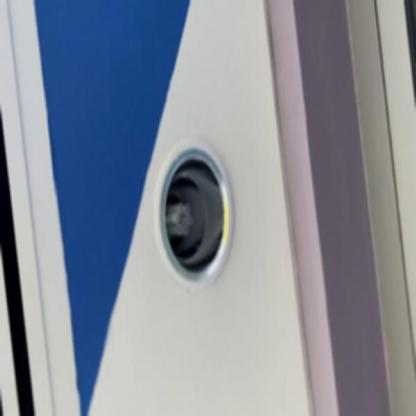light_off: (142, 98, 244, 305)
